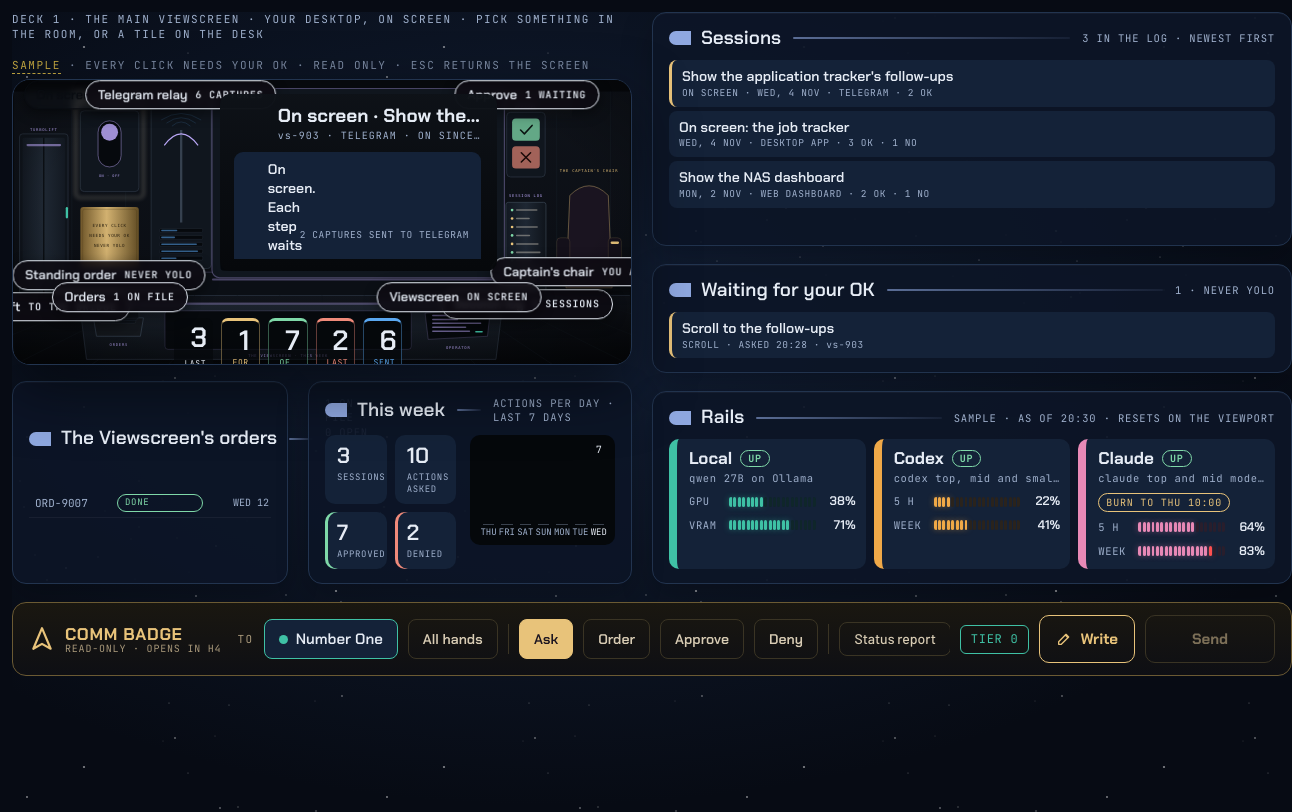
it: the Main Viewscreen › the approve panel lists what waits and what you denied
Click the button "Approve 1 WAITING": (527, 142) [504, 104, 549, 180]
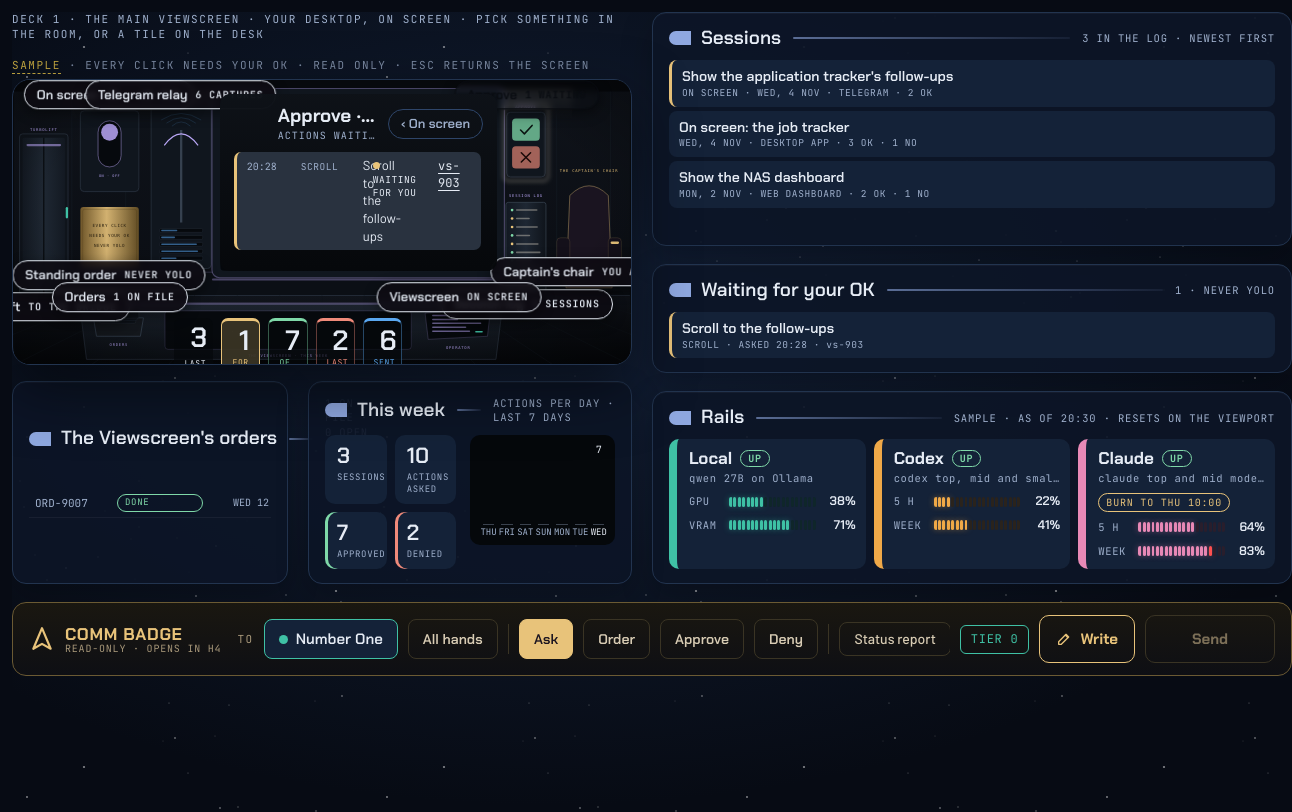
Result: the text with class "con-title" reads "Approve · 1 waiting" at [278, 103, 443, 128]
Click the button "Captain's chair YOU APPROVE": (590, 207) [554, 116, 626, 297]
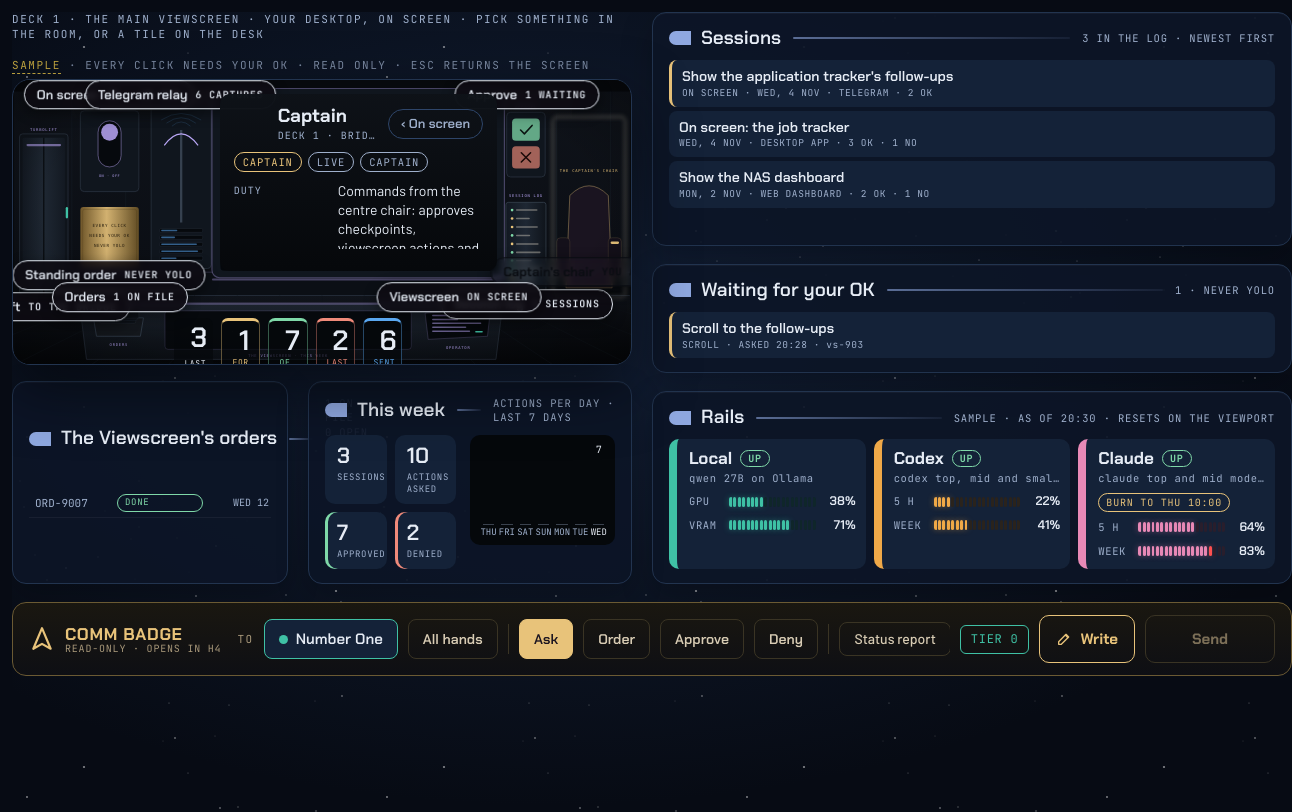
Result: the text with class "con-title" reads "Captain" at [278, 103, 347, 128]
